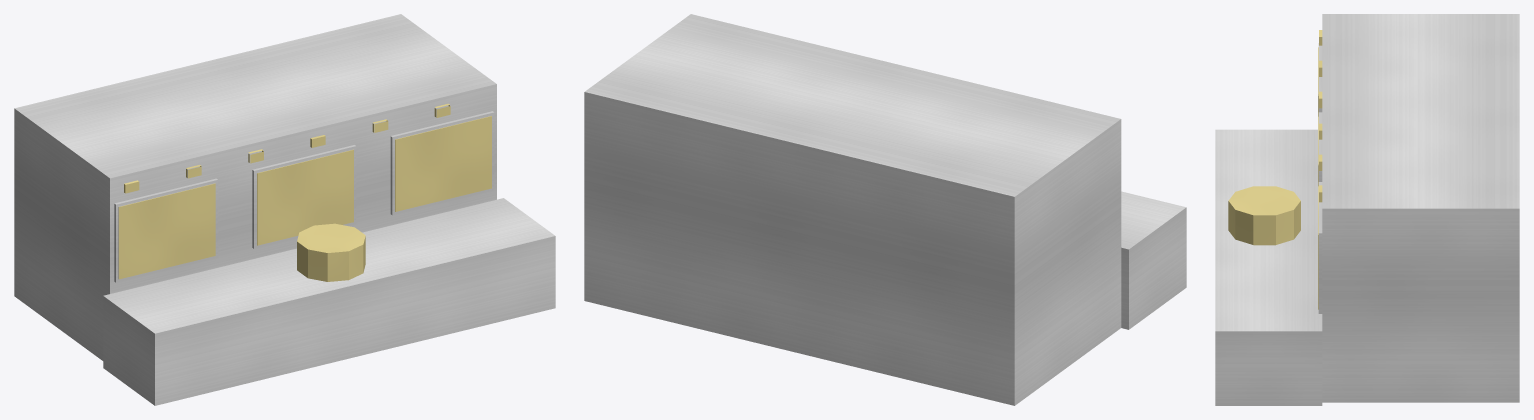
The model's file is multi_analyzer.obj.
The picture shows the model from 3 angles, left to right: view 1: azimuth 30°, elevation 25°; view 2: azimuth 150°, elevation 25°; view 3: azimuth 270°, elevation 25°; orthographic projection. The views are drawn at different scales.
Parts seen in each view (by area): view 1: multi_analyzer; view 2: multi_analyzer; view 3: multi_analyzer.
Boxes of the visible parts, <box> form: multi_analyzer: <box>14,14,555,405</box>; multi_analyzer: <box>584,14,1186,405</box>; multi_analyzer: <box>1215,14,1519,405</box>.
Bounding box in the file's own units: 2.9 × 1.3 × 1.85.
